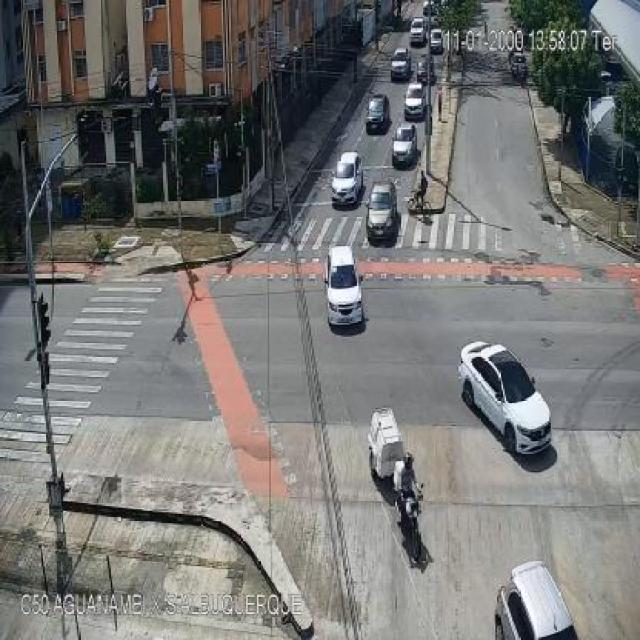Car: (458, 341, 551, 457), (497, 561, 582, 638), (324, 246, 366, 326), (364, 179, 400, 242), (329, 151, 364, 207), (390, 123, 417, 164), (365, 93, 390, 133), (403, 83, 428, 122), (390, 48, 412, 80), (410, 17, 428, 45), (416, 57, 434, 84), (509, 52, 527, 73), (429, 28, 443, 53)
Cycle: (394, 483, 431, 564), (408, 187, 435, 221)
